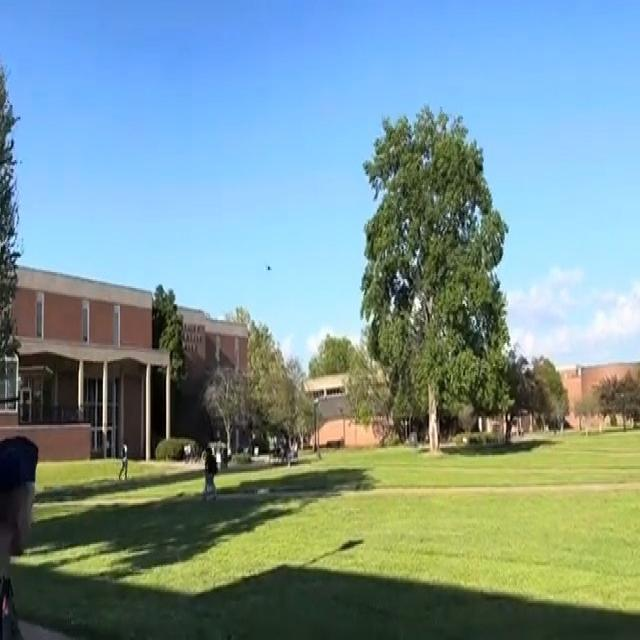drone: (261, 250, 277, 284)
